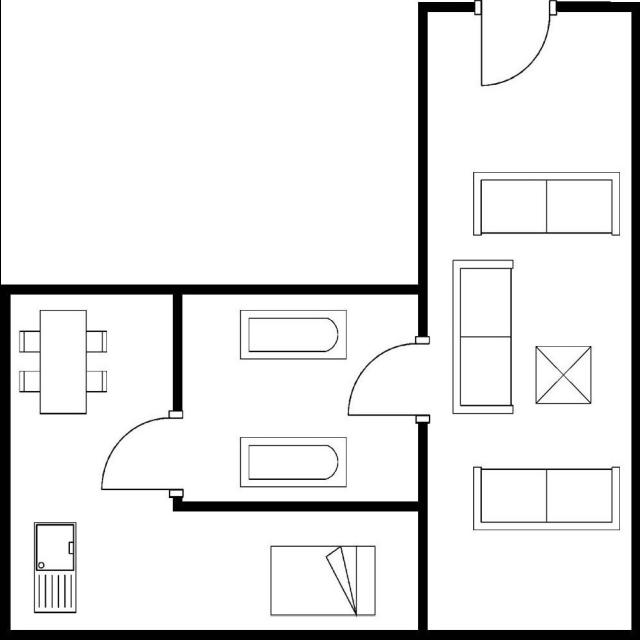bed: (266, 543, 380, 617)
coffee_table: (532, 340, 594, 408)
dining_table: (15, 306, 109, 418)
large_sofa: (469, 460, 623, 534), (468, 169, 622, 237), (450, 254, 514, 416)
sink: (30, 519, 80, 616)
tub: (235, 432, 348, 491), (235, 305, 349, 362)
